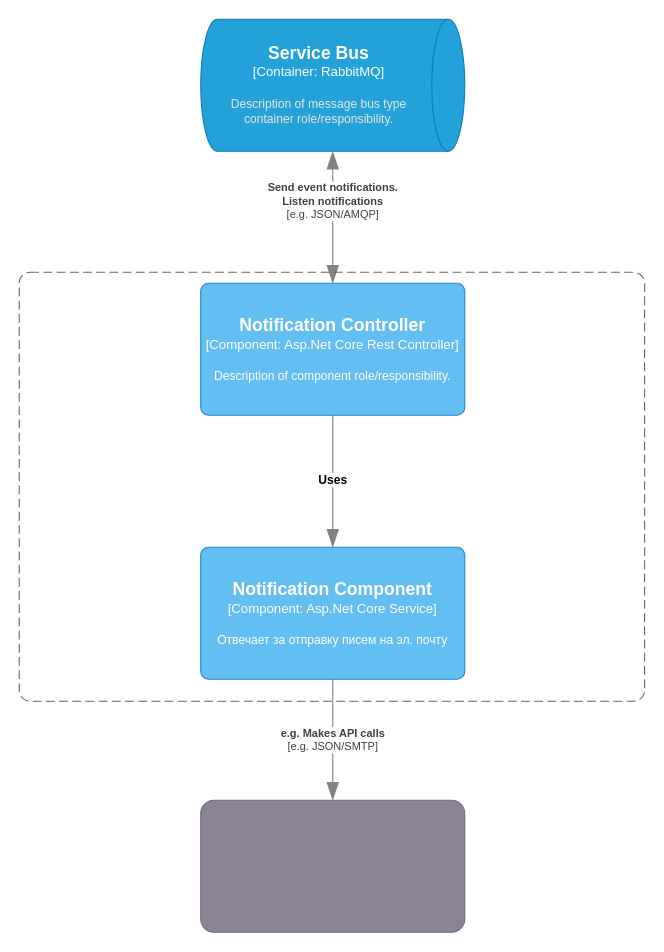
Some shapes in this 664 by 952 pixel diagram are drawn without their labels. Each missing label, with the box of its shape:
Notification Service [Container]: (18, 271, 645, 701)
SMTP [Software System] SMTP сервер Mail.ru: (200, 799, 465, 932)
